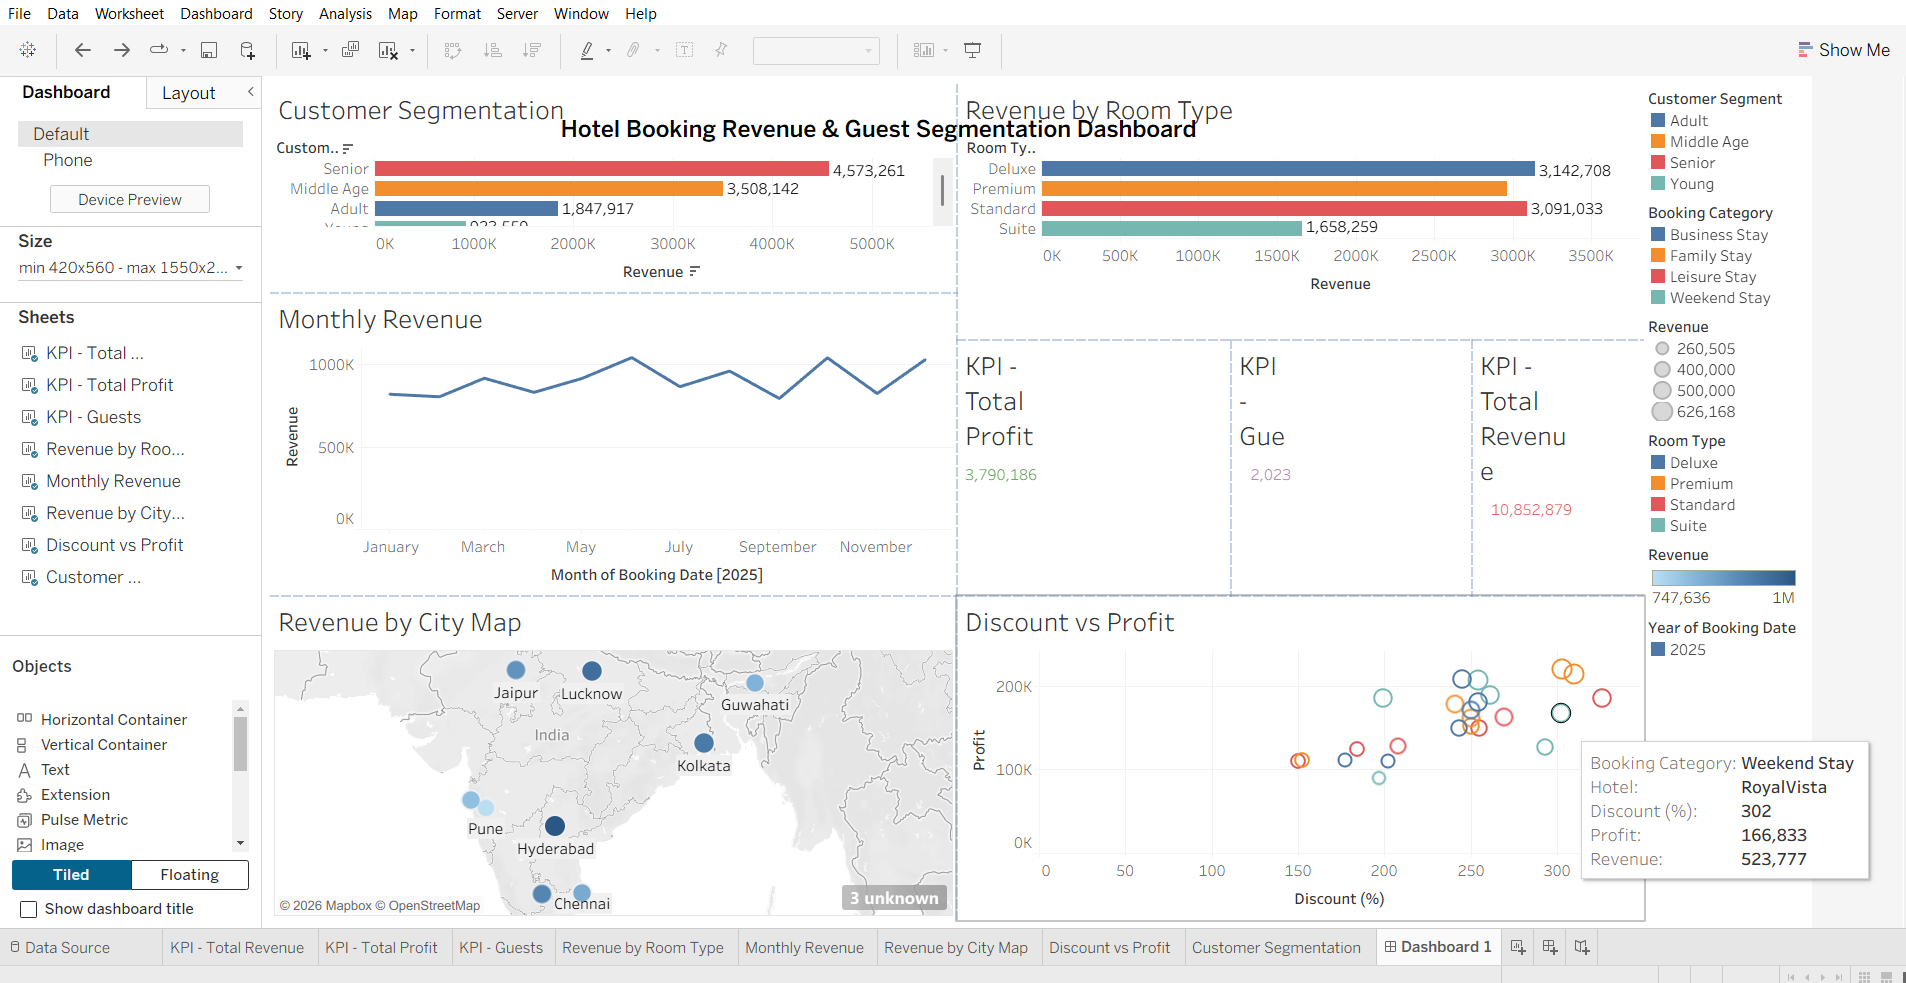

What the dashboard file says about the page in this screenshot:
{"tool":"tableau","page":{"name":"Hotel Booking Revenue & Guest Segmentation Dashboard","canvas":[1000,1000],"units":"permille","ordinal":0},"visuals":[{"type":"worksheet","title":"Customer Segmentation","mark":"Automatic","rows":["Calculation_0965973510021120"],"cols":["Revenue"],"box":[5.2,9.4,443.2,245.3]},{"type":"worksheet","title":"Revenue by Room Type","mark":"Automatic","rows":["Room Type"],"cols":["Revenue"],"box":[448.4,9.4,443.2,300.5]},{"type":"legend","title":"Customer Segmentation","param":"[federated.1awifz61v5cywj18pyc450konjw1].[none:Calculation_0965973510021120:nk]","box":[891.6,9.4,103.2,133.8]},{"type":"text","box":[4.5,38.7,981.9,48.1]},{"type":"legend","title":"Discount vs Profit","param":"[federated.1awifz61v5cywj18pyc450konjw1].[none:Booking Category:nk]","box":[891.6,143.2,103.2,133.8]},{"type":"worksheet","title":"Monthly Revenue","mark":"Line","rows":["Revenue"],"cols":["Booking Date"],"box":[5.2,254.7,443.2,355.6]},{"type":"legend","title":"Discount vs Profit","param":"[federated.1awifz61v5cywj18pyc450konjw1].[sum:Revenue:qk]","box":[891.6,277,103.2,133.8]},{"type":"worksheet","title":"KPI - Total Profit","mark":"Automatic","box":[448.4,309.9,176.8,300.5]},{"type":"worksheet","title":"KPI - Guests","mark":"Automatic","box":[625.2,309.9,155.7,300.5]},{"type":"worksheet","title":"KPI - Total Revenue","mark":"Automatic","box":[780.8,309.9,110.8,300.5]},{"type":"legend","title":"Revenue by Room Type","param":"[federated.1awifz61v5cywj18pyc450konjw1].[none:Room Type:nk]","box":[891.6,410.8,103.2,133.8]},{"type":"legend","title":"Revenue by City Map","param":"[federated.1awifz61v5cywj18pyc450konjw1].[sum:Revenue:qk]","box":[891.6,544.6,103.2,85.7]},{"type":"worksheet","title":"Revenue by City Map","mark":"Automatic","box":[5.2,610.3,443.2,380.3]},{"type":"worksheet","title":"Discount vs Profit","mark":"Automatic","rows":["Profit"],"cols":["Discount (%)"],"box":[448.4,610.3,443.2,380.3]},{"type":"legend","title":"Monthly Revenue","param":"[federated.1awifz61v5cywj18pyc450konjw1].[yr:Booking Date:ok]","box":[891.6,630.3,103.2,59.9]}]}

Visuals, with their boxes on the dashboard's canvas, which has no fixed pixel size, in thousandths of its width and height (x1, y1, x2, y2). These are canvas units, not pixel positions in the 1906x983 screenshot, which may show the page scaled, cropped or inside an application window:
"Customer Segmentation" worksheet: (5, 9, 448, 255)
"Revenue by Room Type" worksheet: (448, 9, 892, 310)
"Customer Segmentation" legend: (892, 9, 995, 143)
text: (4, 39, 986, 87)
"Discount vs Profit" legend: (892, 143, 995, 277)
"Monthly Revenue" worksheet (Line marks): (5, 255, 448, 610)
"Discount vs Profit" legend: (892, 277, 995, 411)
"KPI - Total Profit" worksheet: (448, 310, 625, 610)
"KPI - Guests" worksheet: (625, 310, 781, 610)
"KPI - Total Revenue" worksheet: (781, 310, 892, 610)
"Revenue by Room Type" legend: (892, 411, 995, 545)
"Revenue by City Map" legend: (892, 545, 995, 630)
"Revenue by City Map" worksheet: (5, 610, 448, 991)
"Discount vs Profit" worksheet: (448, 610, 892, 991)
"Monthly Revenue" legend: (892, 630, 995, 690)
